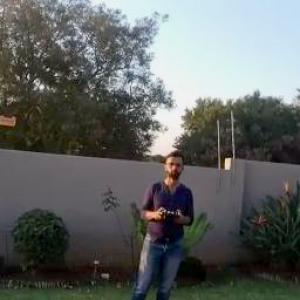follow: (124, 143, 199, 299)
